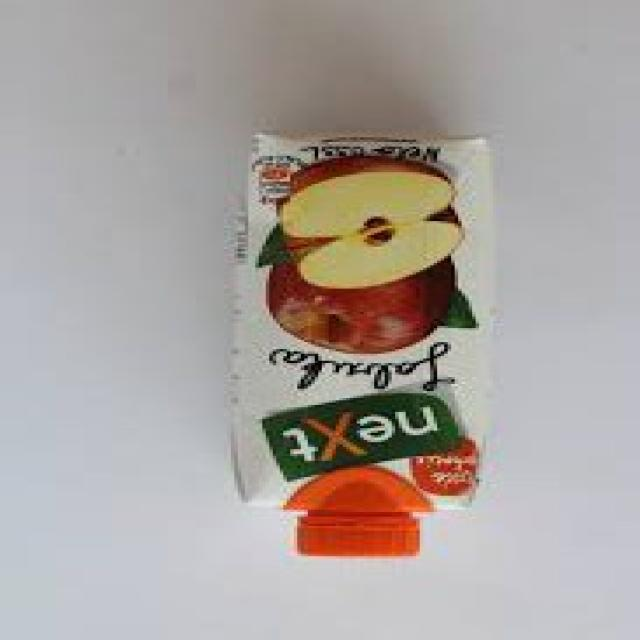non_white_jug: (229, 128, 497, 563)
